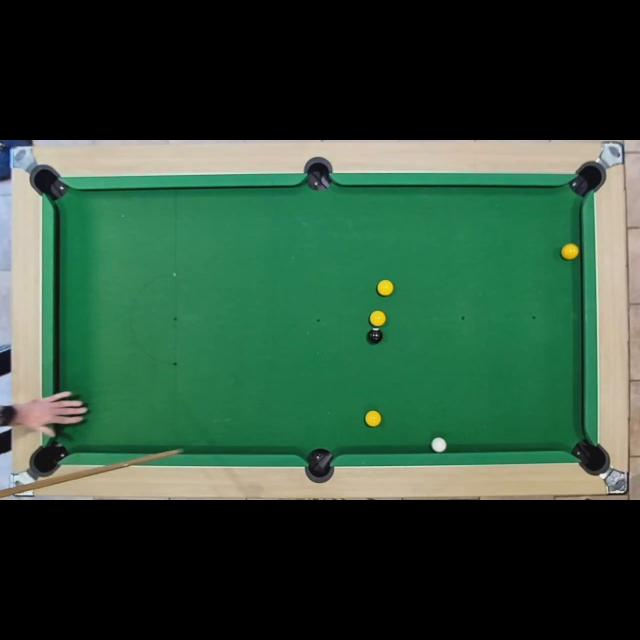Ball: (560, 243, 580, 260), (376, 280, 394, 296), (365, 411, 381, 427), (370, 311, 386, 327), (430, 436, 446, 452), (368, 328, 382, 342)
